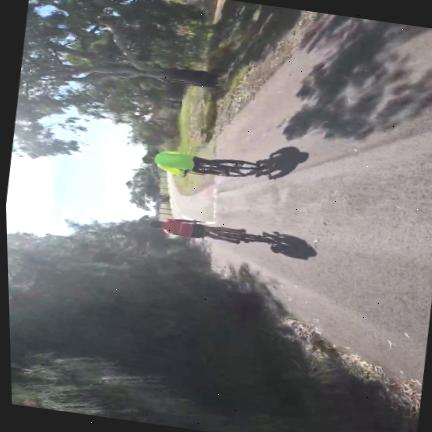Bike_Lane: (168, 175, 217, 224)
